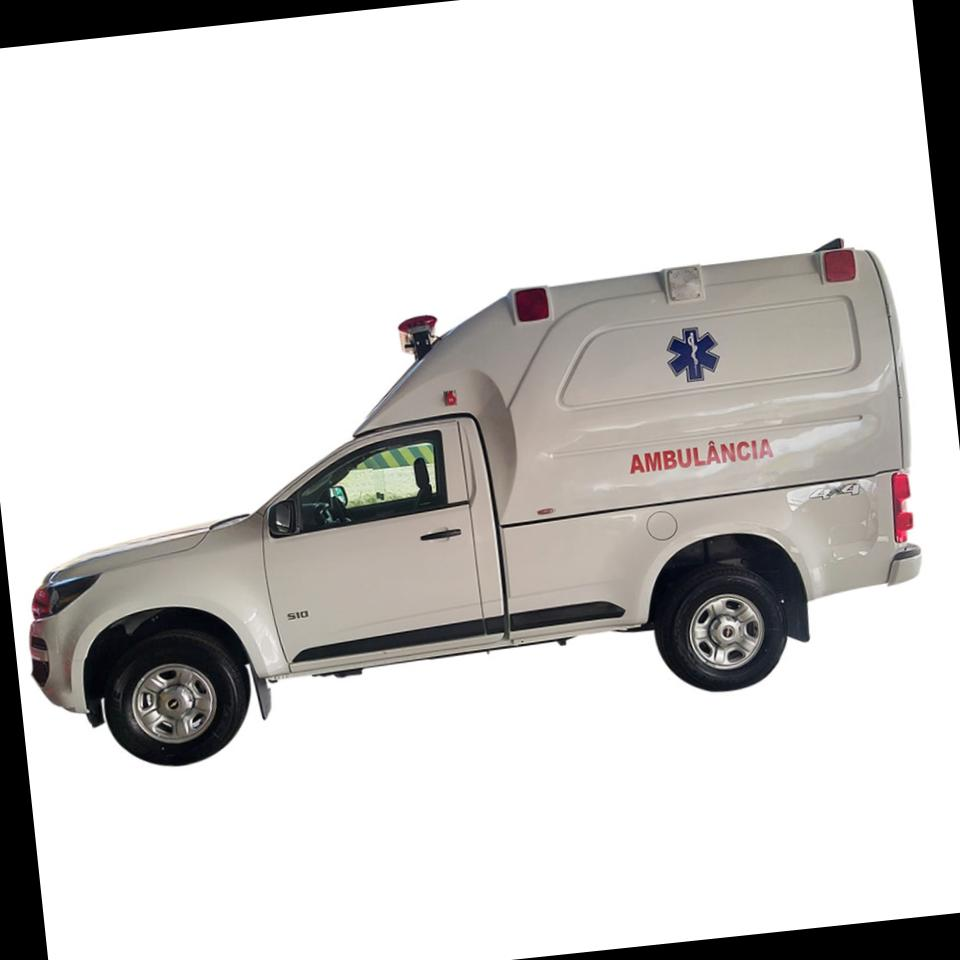bombeiro: (0, 226, 937, 779)
